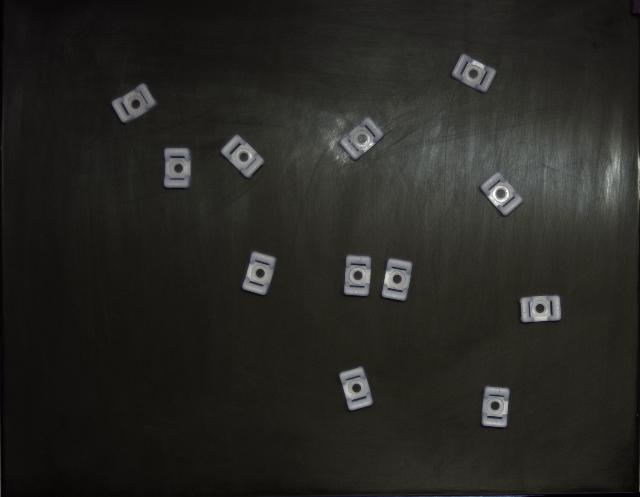first_side: (221, 135, 265, 179), (111, 84, 158, 124), (340, 118, 384, 160), (480, 172, 522, 216), (451, 54, 496, 92), (242, 253, 276, 295), (340, 368, 372, 411), (381, 259, 412, 301), (481, 386, 510, 429), (344, 255, 371, 296), (520, 295, 561, 322), (164, 149, 191, 189)
